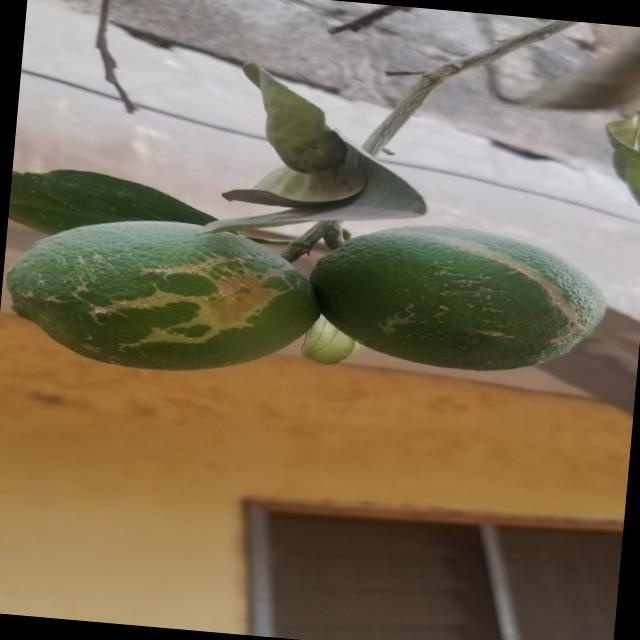agrume: (19, 205, 321, 379), (307, 218, 605, 382)
